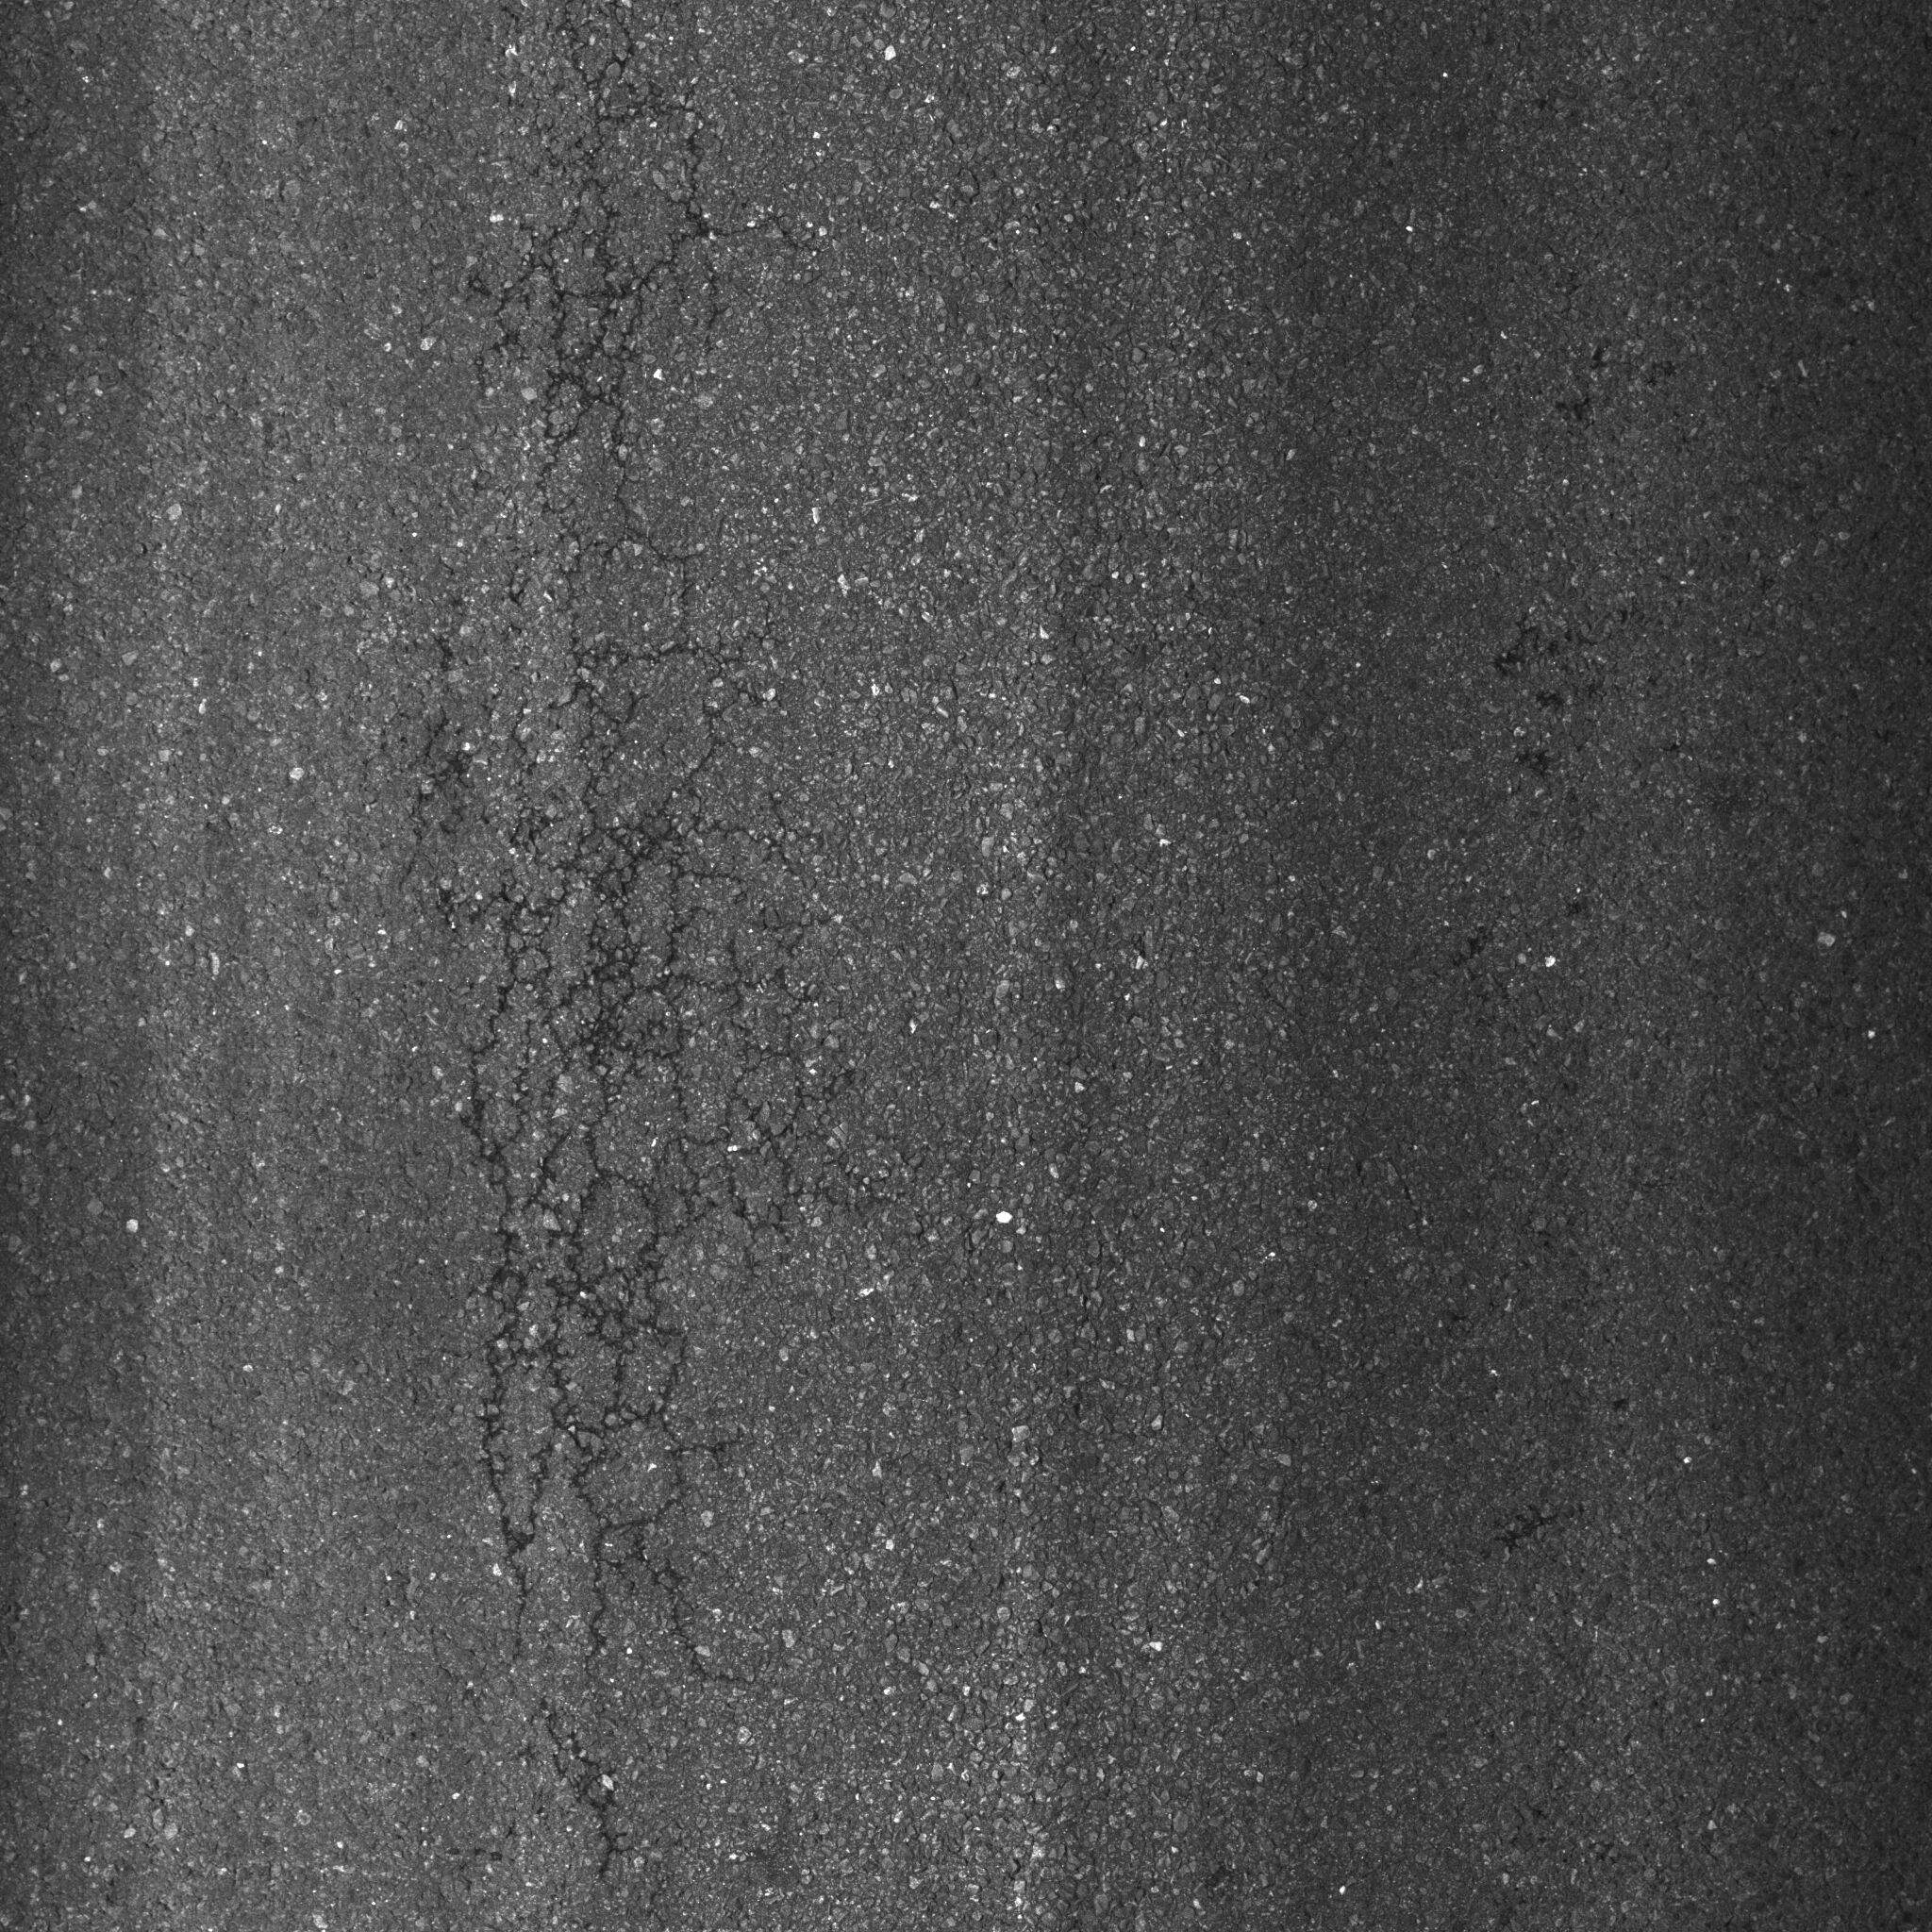alligator: (287, 2, 959, 1897)
